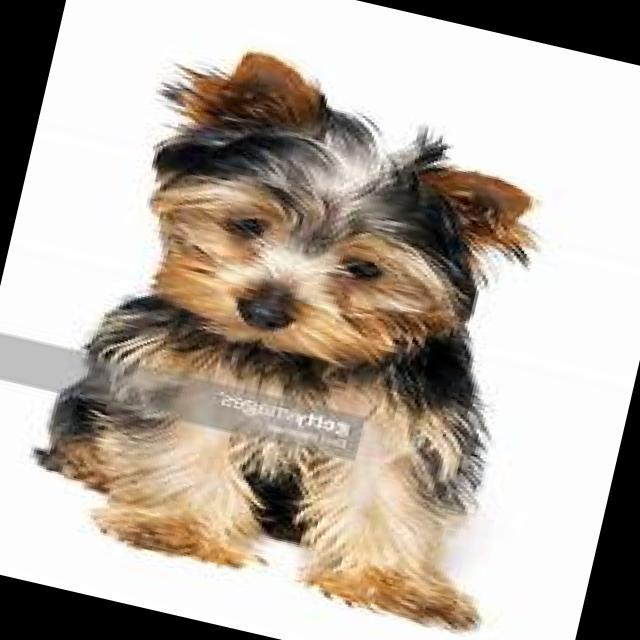dog: (15, 21, 598, 640)
